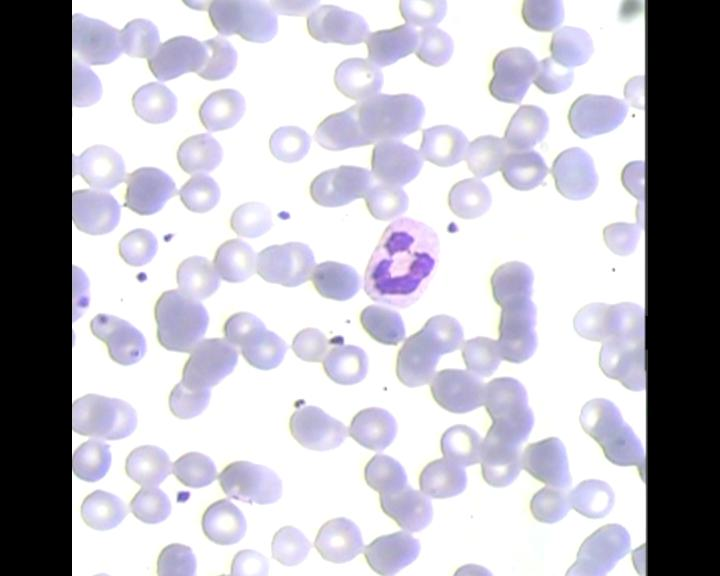neut: (359, 216, 439, 306)
